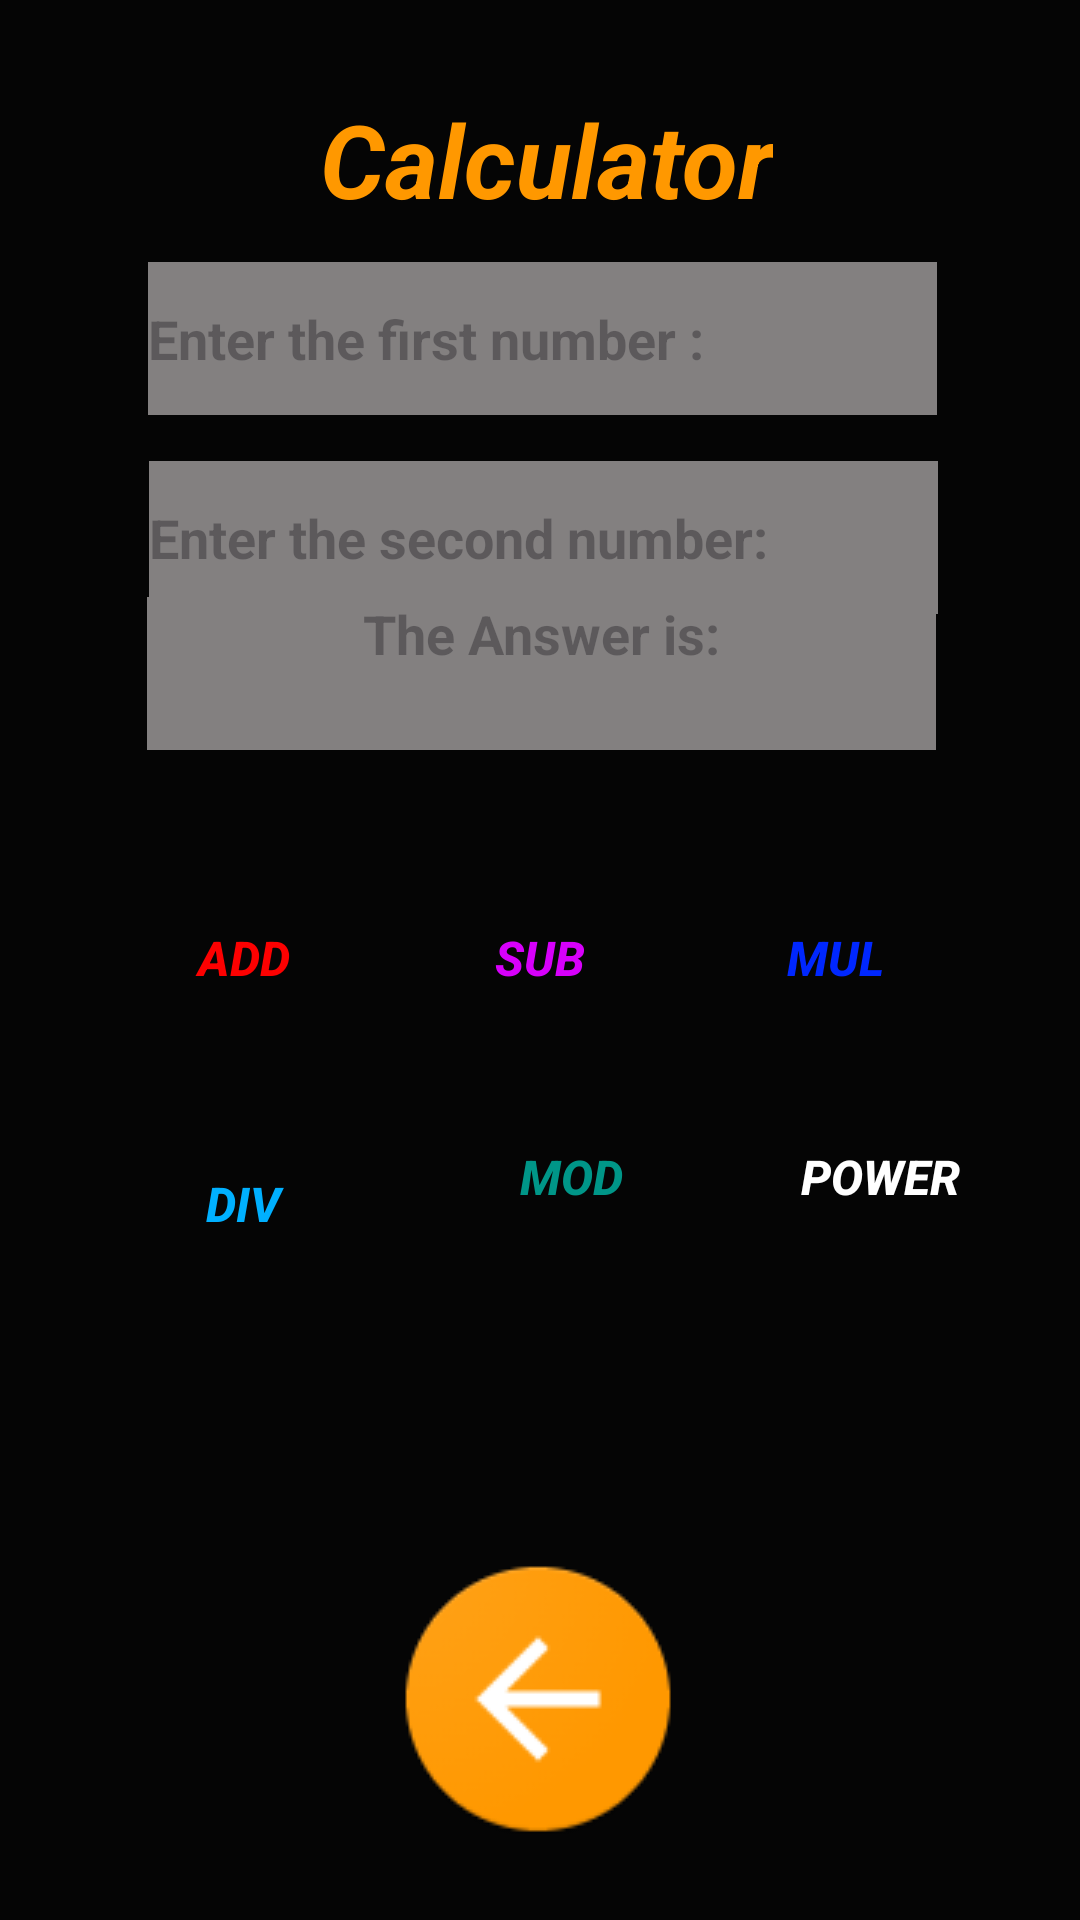

Named icons in this screenshot (1080 x 1920) and their bounding boxes, region(x1, y1, x2, y2):
ret: region(405, 1566, 671, 1832)
